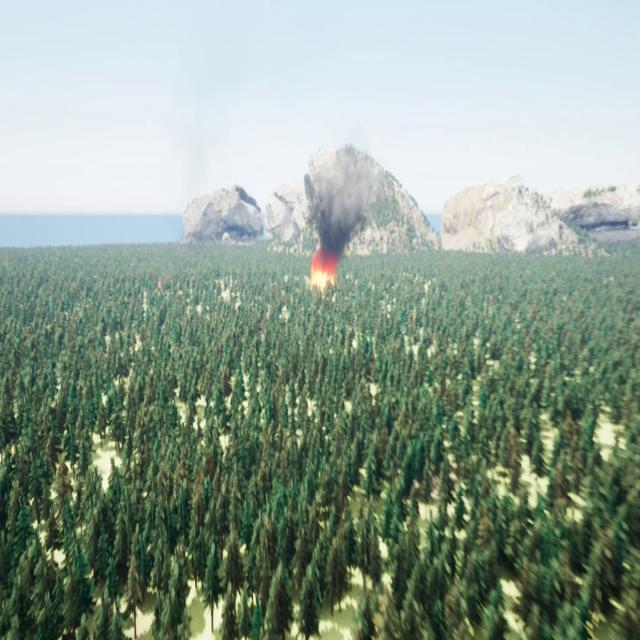fire: (310, 252, 337, 284)
smoke: (314, 155, 370, 250)
